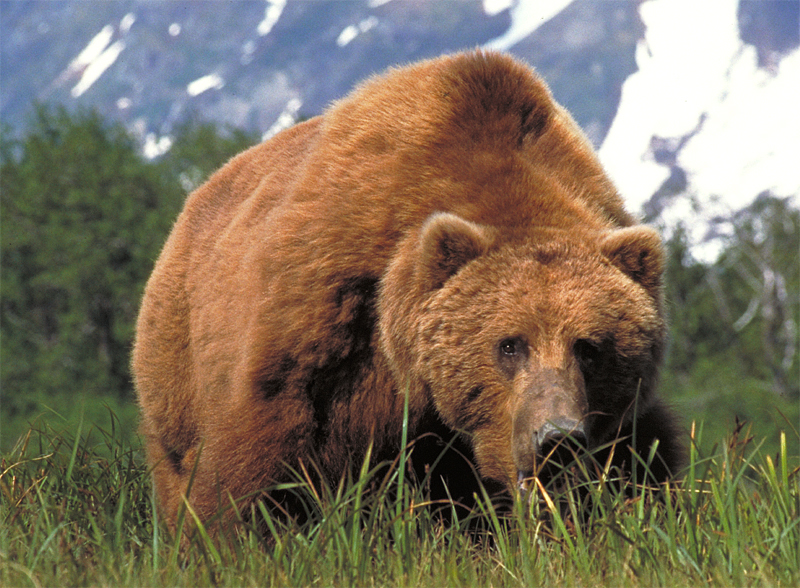bear: (418, 210, 672, 475)
